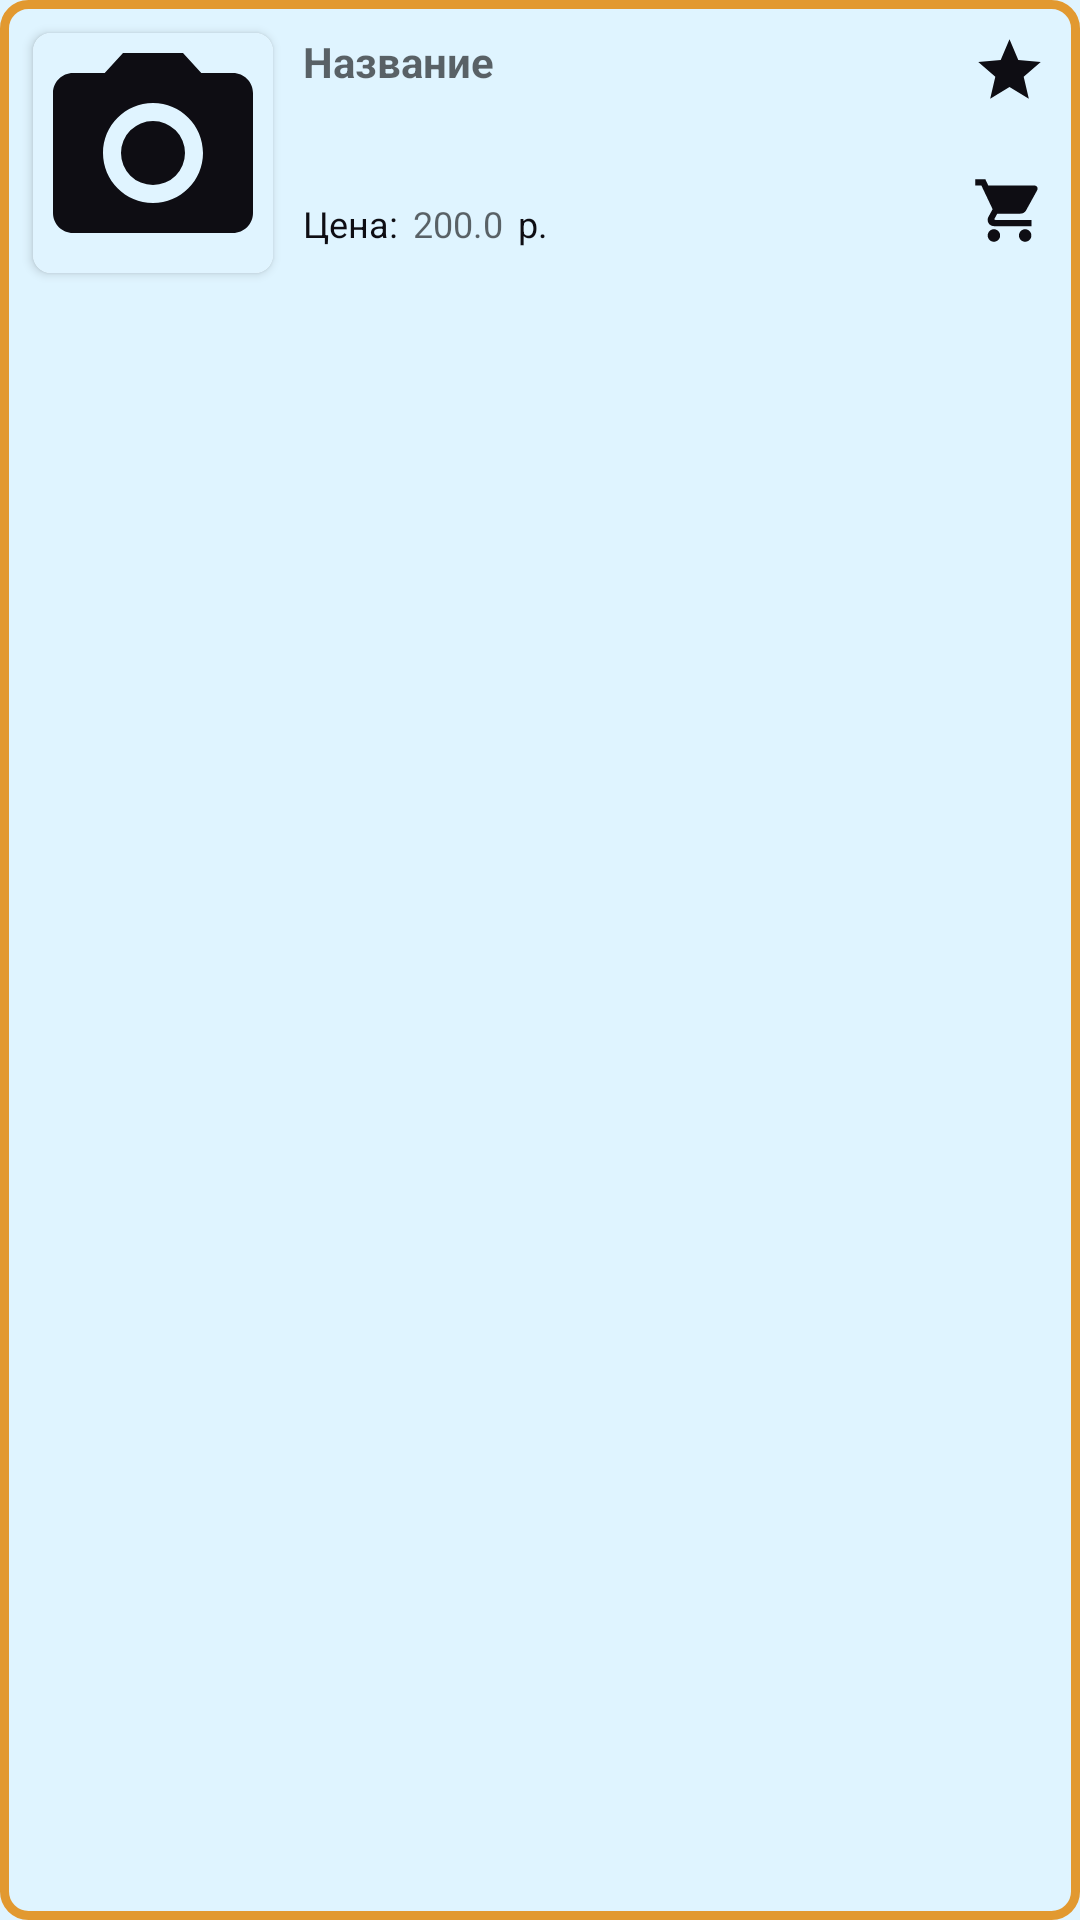

Screen size 1080px×1920px. Icon name, then its center in pixels as (x=x, y=y):
no photo: (x=143, y=154)
not basket: (x=1006, y=210)
not favorites: (x=1009, y=69)
